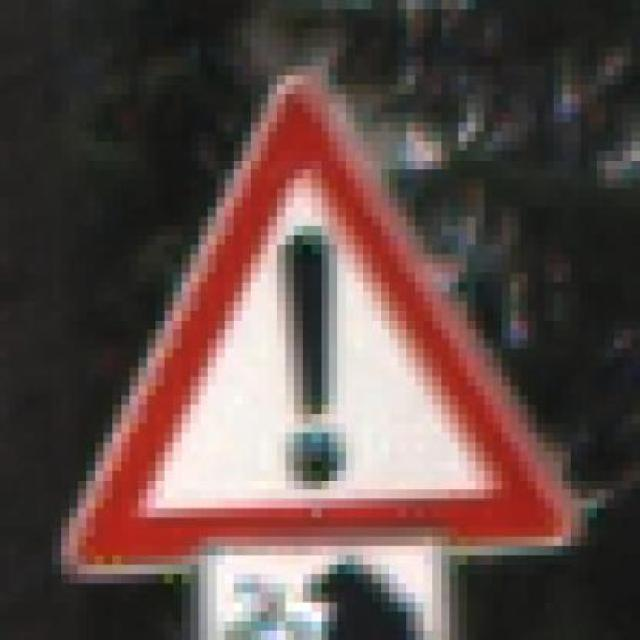Attention Please-: (34, 66, 588, 574)
